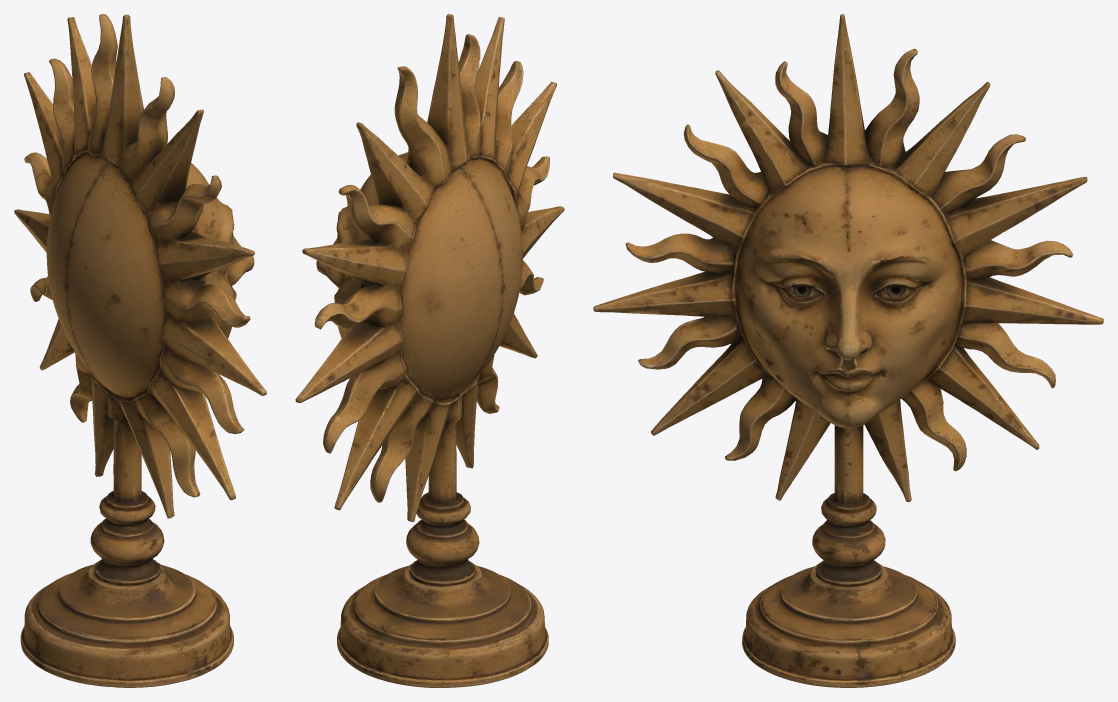
File: m_sunface.glb
The picture shows the model from 3 angles, left to right: view 1: azimuth 30°, elevation 25°; view 2: azimuth 150°, elevation 25°; view 3: azimuth 270°, elevation 25°; orthographic projection.
Visible parts, largest first — view 1: tripo_node_6bc15efa-77db-4b41-9fda-a2e5a06dc645; view 2: tripo_node_6bc15efa-77db-4b41-9fda-a2e5a06dc645; view 3: tripo_node_6bc15efa-77db-4b41-9fda-a2e5a06dc645.
Boxes of the visible parts, x1,y1,x2,y2 form: tripo_node_6bc15efa-77db-4b41-9fda-a2e5a06dc645: [14, 14, 266, 687]; tripo_node_6bc15efa-77db-4b41-9fda-a2e5a06dc645: [295, 14, 564, 687]; tripo_node_6bc15efa-77db-4b41-9fda-a2e5a06dc645: [593, 14, 1103, 687].
Bounding box in the file's own units: 0.3597 × 1 × 0.738.
Materials: 1 (1 with a texture image).
